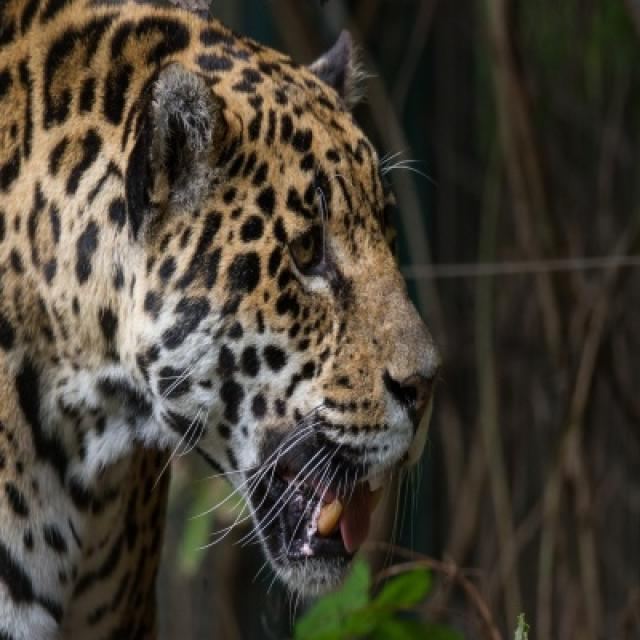Jaguar: (0, 0, 442, 638)
